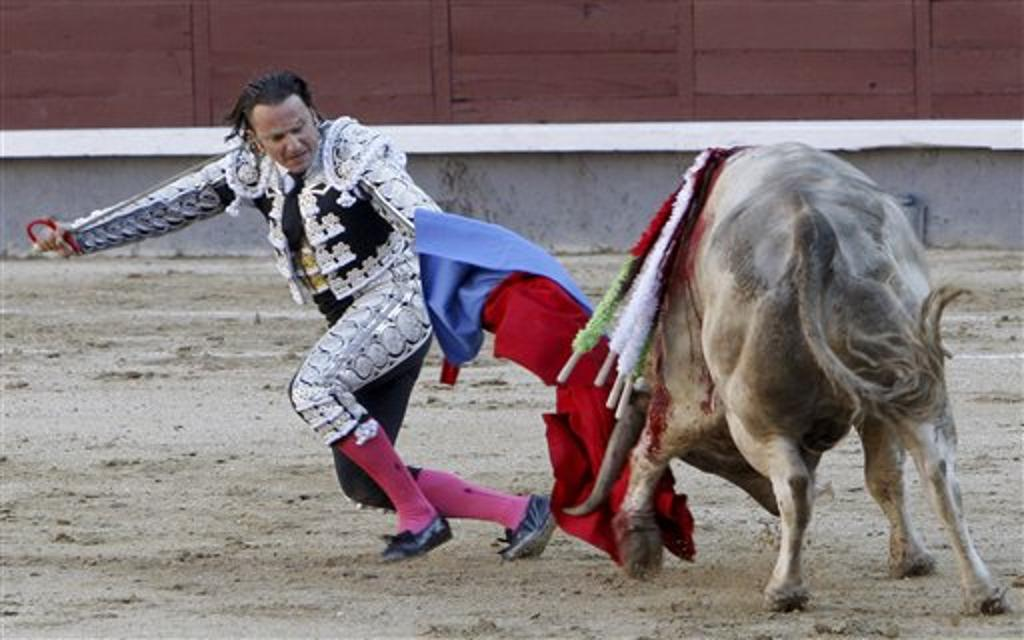face: (253, 101, 315, 173)
